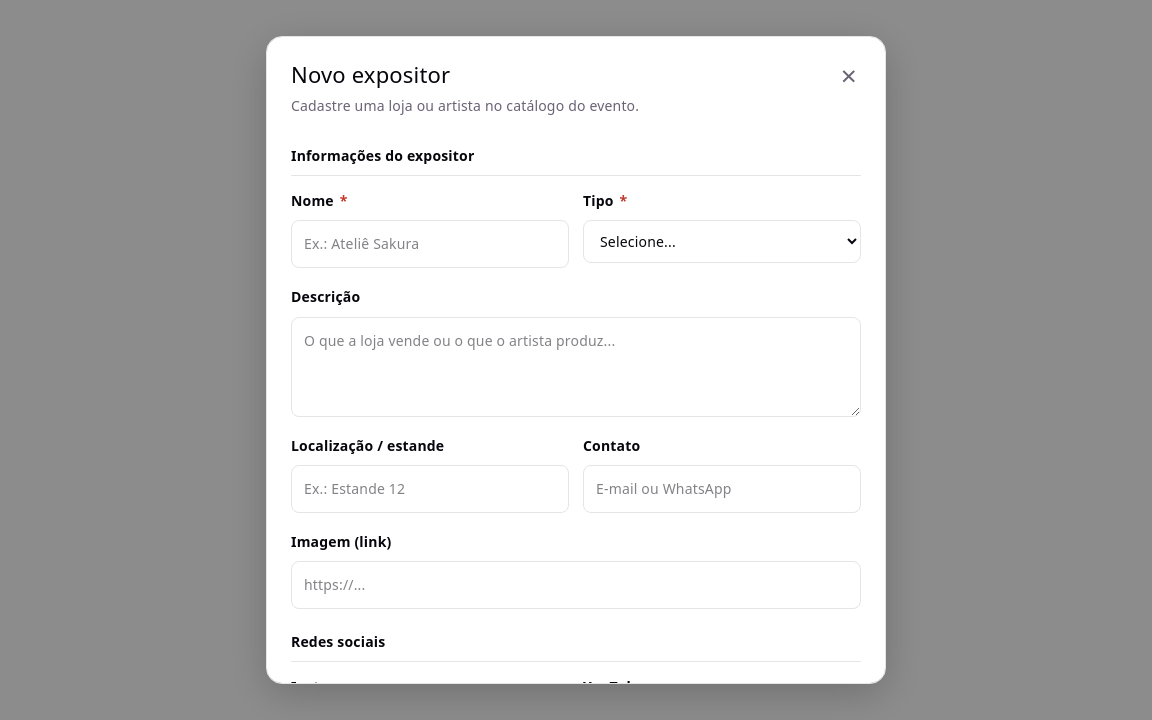
Scenario: ExpositorForm › cadastro › exige o evento atual para cadastrar
In the field with id "nome": (430, 244) [291,220,569,268], type "Loja X"
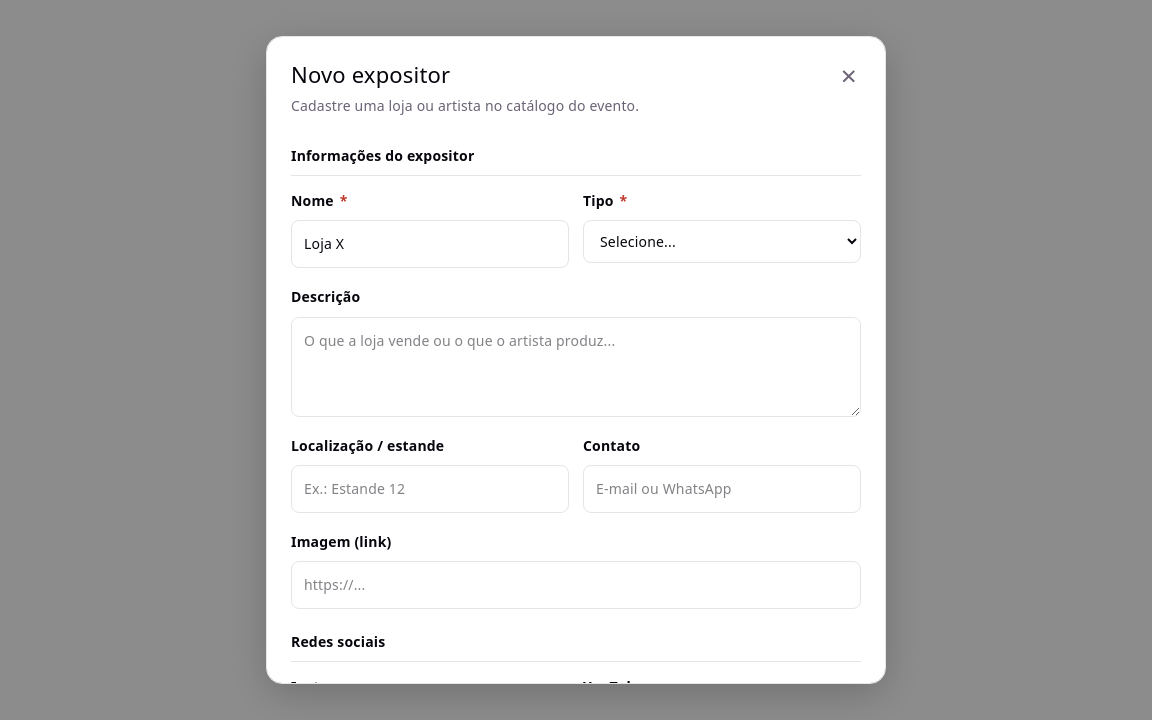
Select "Loja" in the dropdown with id "tipo": (722, 242) [583,220,861,263]
(page scrolled)
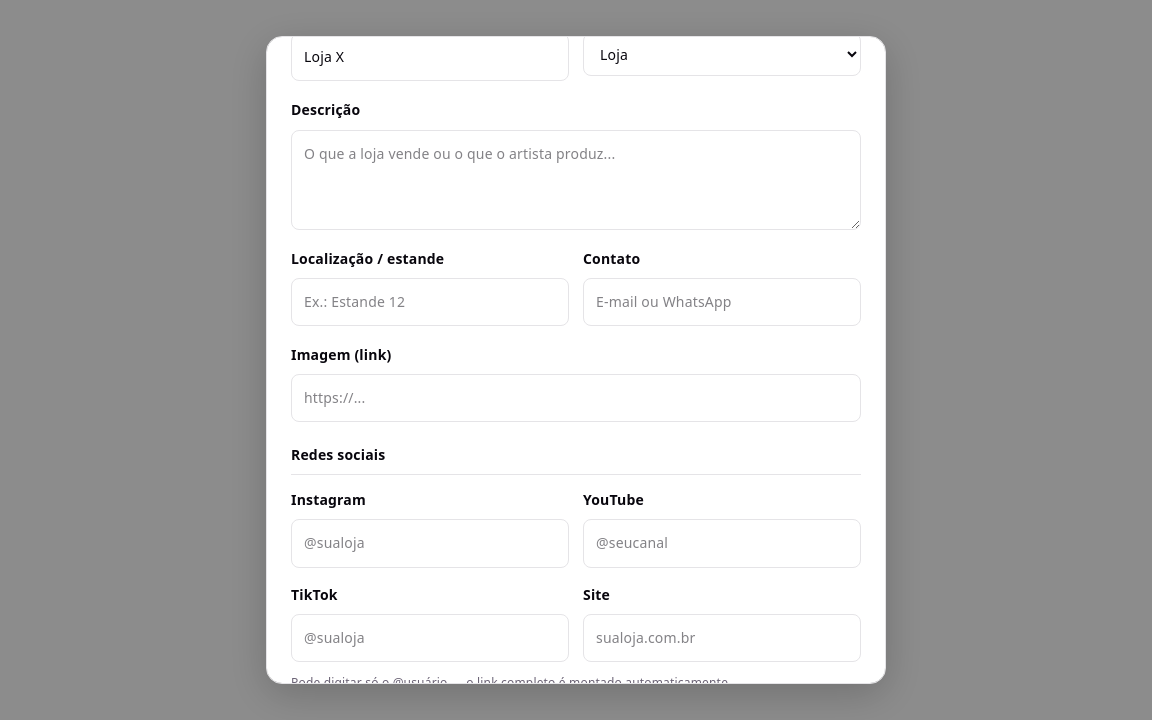
Submit the form
(page scrolled)
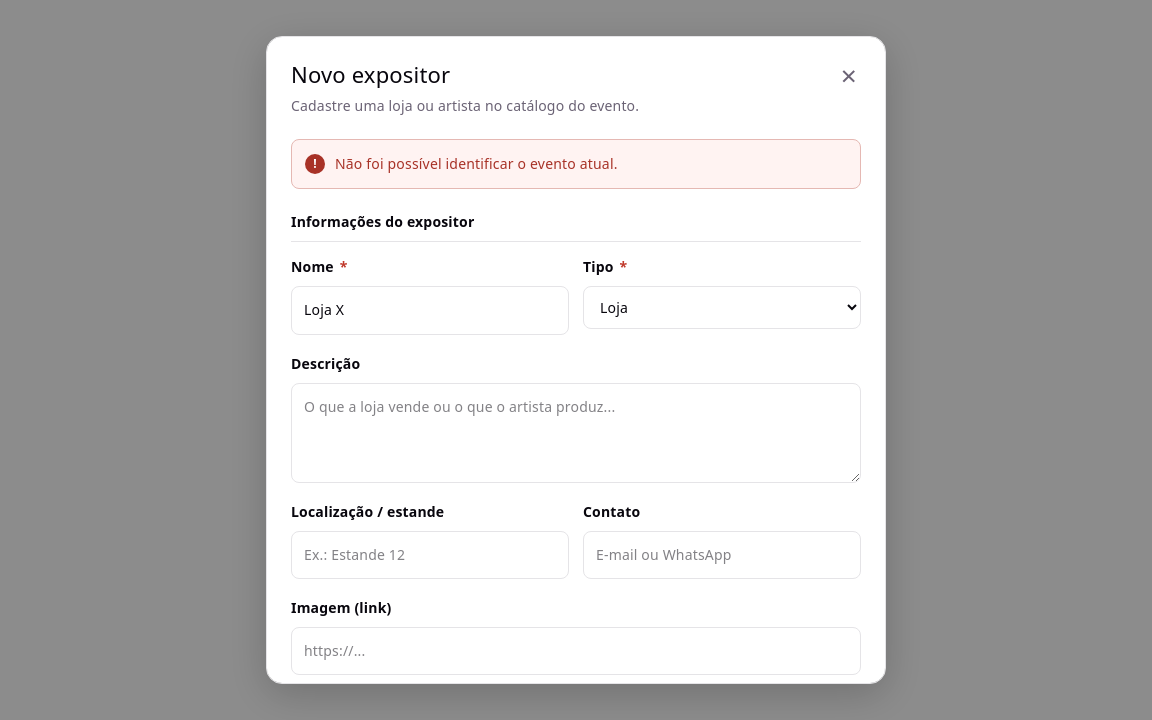
Result: the message shows "Não foi possível identificar o evento atual." at [335,154,618,173]
